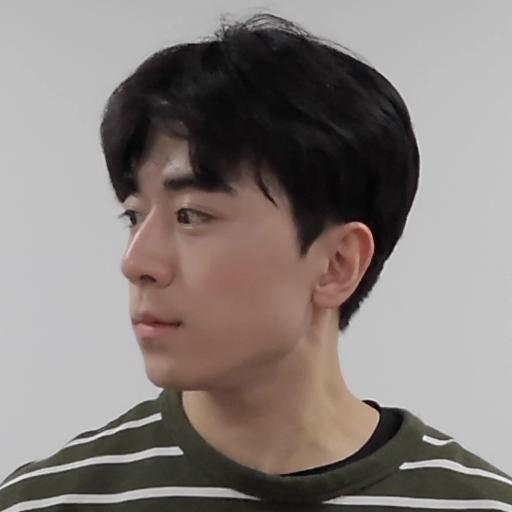no_glasses: (95, 18, 428, 401)
